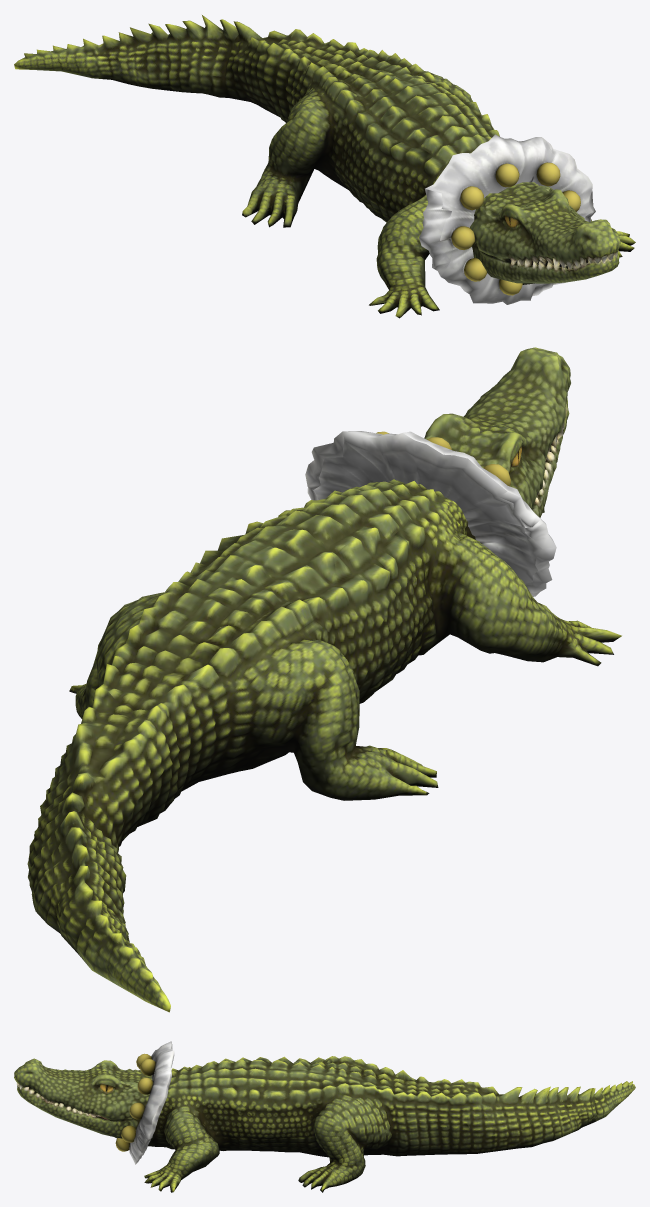
Rendered from MZ4250 - Snoodle the royal croc.glb.
3 views of the same model, one above another, from view 1: azimuth 30°, elevation 25°; view 2: azimuth 150°, elevation 25°; view 3: azimuth 270°, elevation 25° (orthographic). The views are drawn at different scales.
Parts seen in each view (by area): view 1: body_low.001, thing_low.001, sphere_low.001; view 2: body_low.001, thing_low.001; view 3: body_low.001, thing_low.001, sphere_low.001.
Boxes of the visible parts, x1,y1,x2,y2 form: body_low.001: [14, 15, 635, 318]; thing_low.001: [419, 134, 595, 304]; sphere_low.001: [451, 162, 580, 295]; body_low.001: [27, 347, 621, 1012]; thing_low.001: [305, 431, 556, 596]; body_low.001: [14, 1056, 635, 1192]; thing_low.001: [129, 1041, 174, 1164]; sphere_low.001: [115, 1053, 155, 1151].
Bounding box in the file's own units: 3.07 × 1.47 × 7.86.
Materials: 1 (1 with a texture image).
